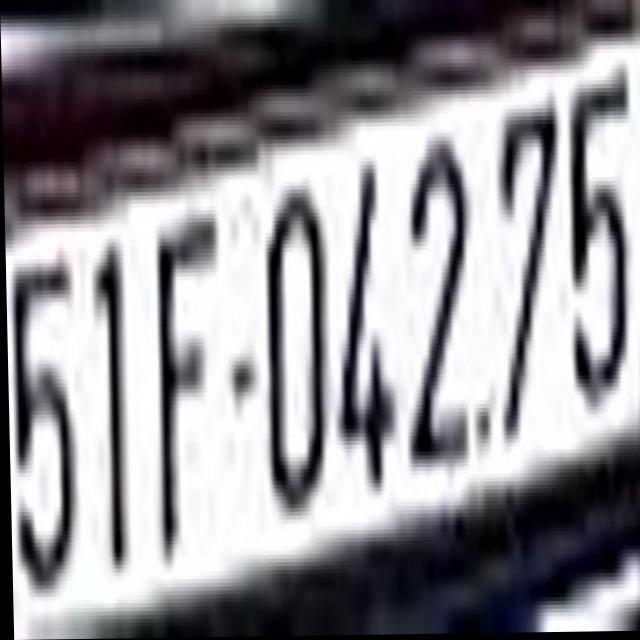0: (256, 155, 325, 513)
1: (93, 212, 130, 565)
2: (501, 94, 559, 464), (401, 150, 469, 464)
4: (331, 124, 392, 504)
5: (561, 43, 637, 412), (7, 236, 79, 601)
F: (150, 203, 223, 569)
